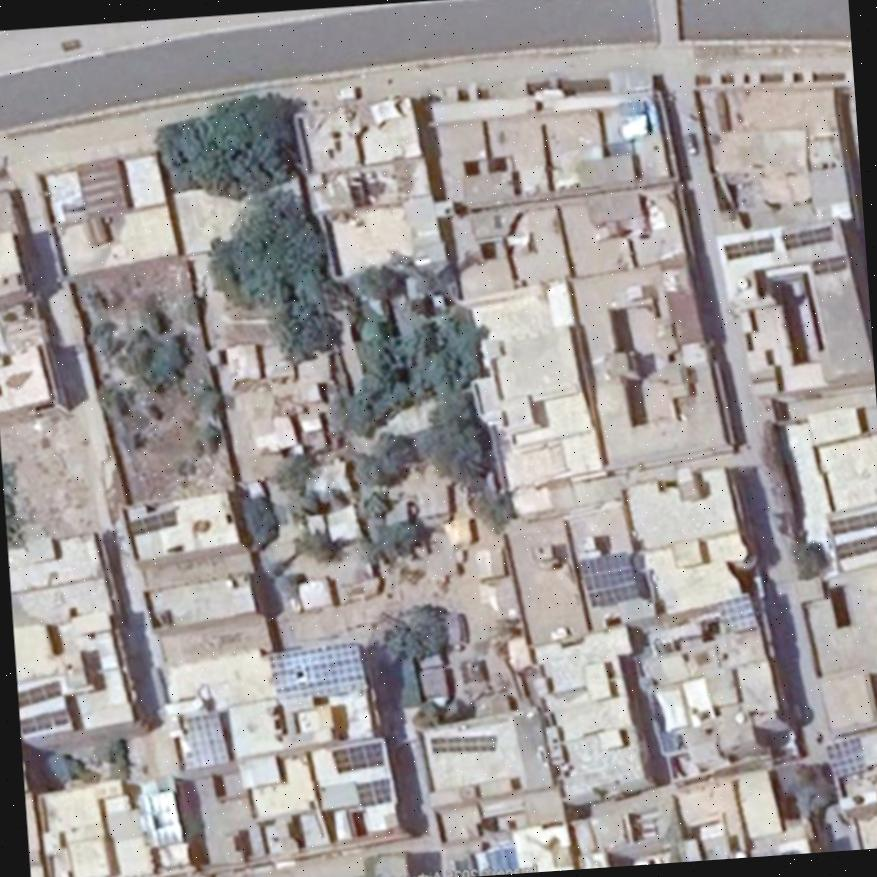Solarpanel: (265, 640, 366, 701), (579, 549, 637, 602), (176, 712, 227, 768), (137, 788, 182, 849), (330, 739, 382, 769), (826, 735, 865, 774), (123, 507, 175, 535), (716, 594, 757, 629), (723, 234, 773, 258), (20, 707, 69, 731), (828, 511, 877, 534), (781, 225, 832, 247), (834, 534, 877, 560), (19, 680, 61, 706), (354, 775, 389, 805), (431, 734, 493, 750), (808, 254, 846, 274)
